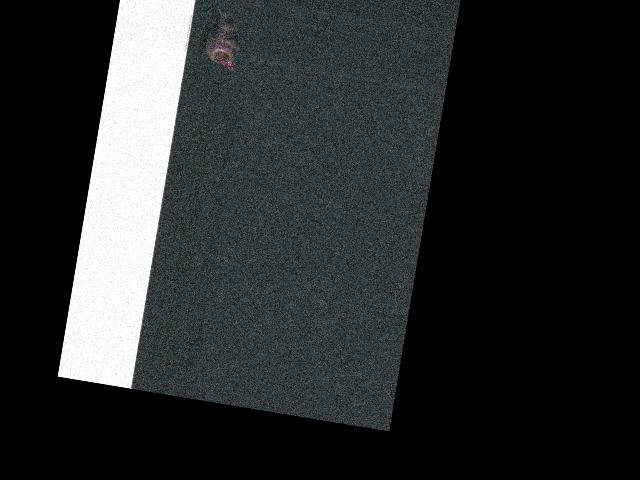beet: (194, 5, 245, 73)
